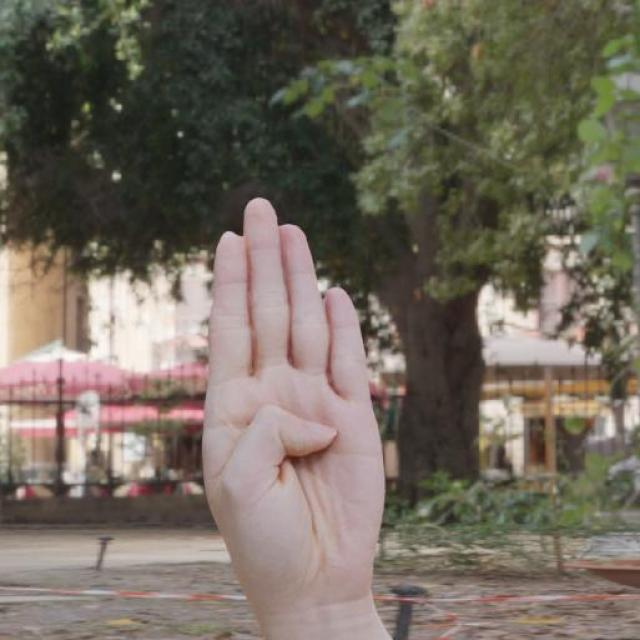B: (198, 190, 388, 608)
